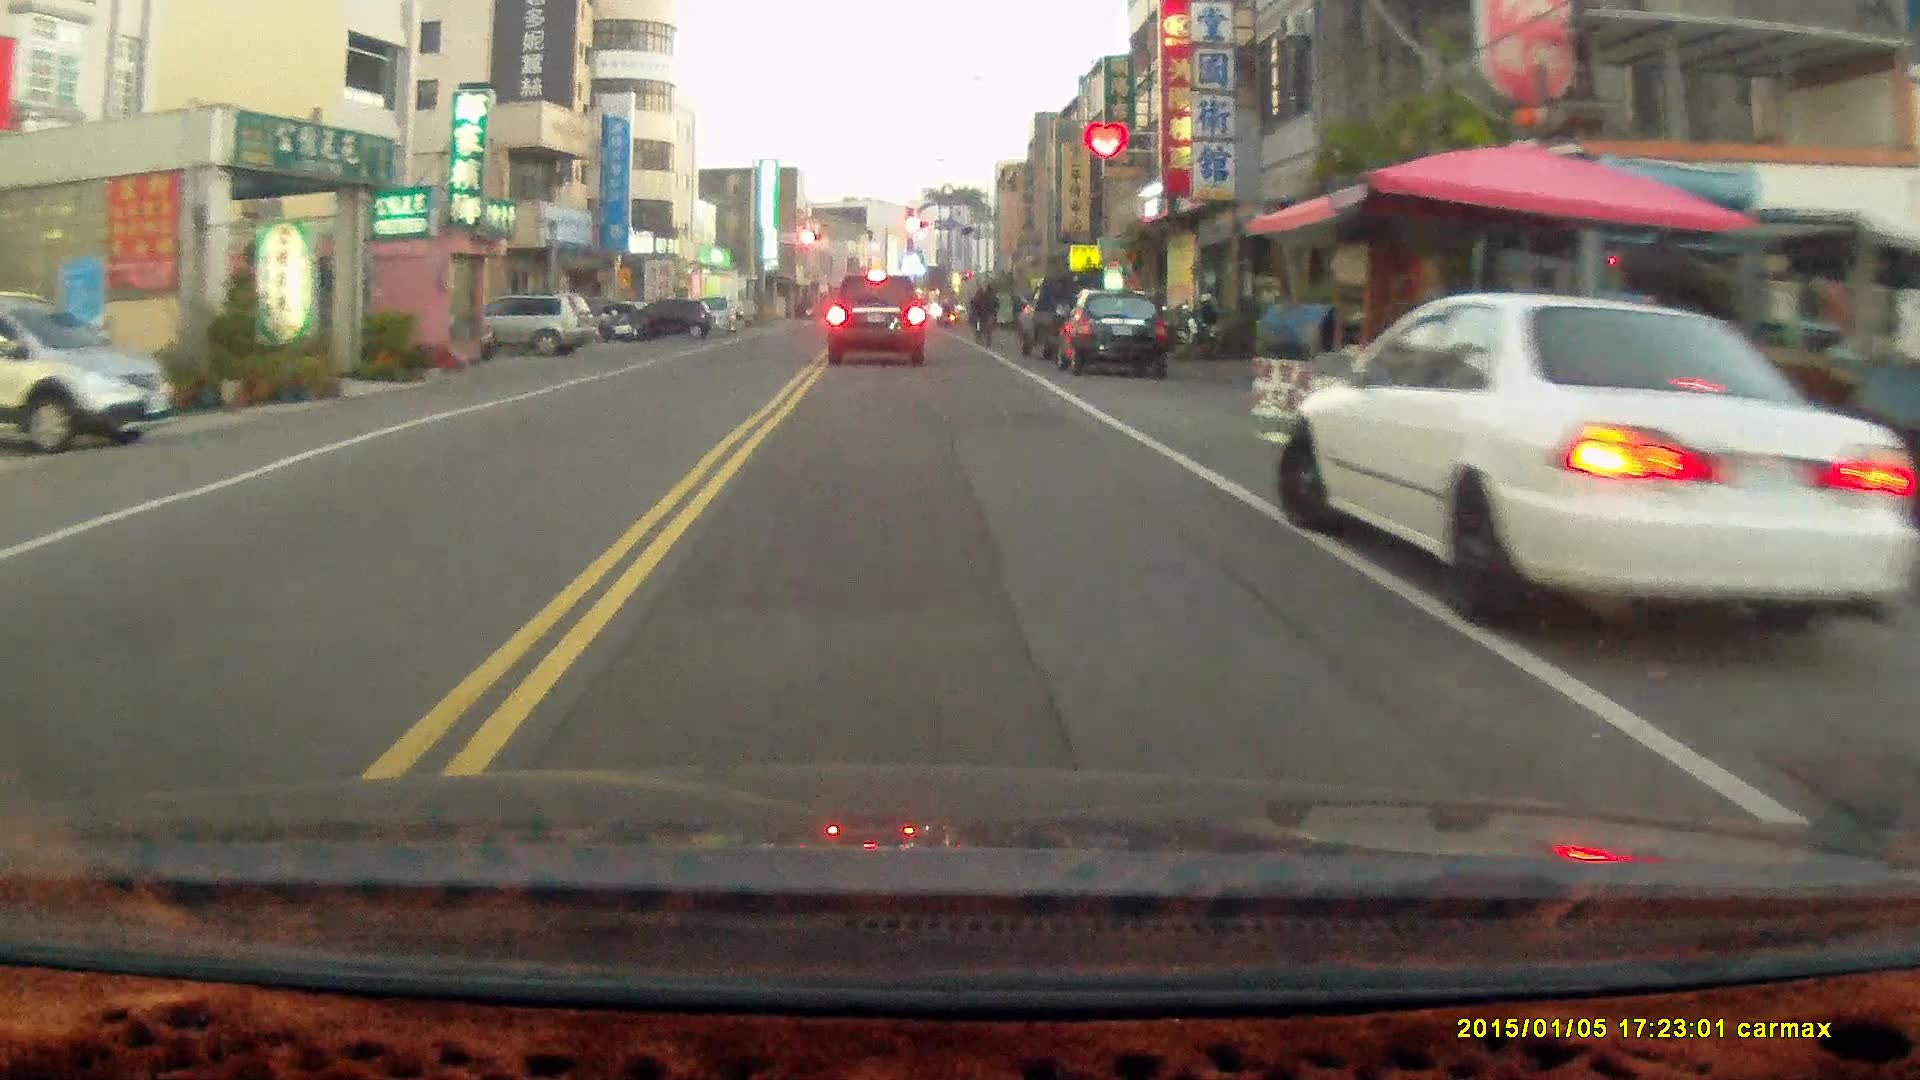rider: (972, 278, 1001, 346)
vehicle: (1278, 290, 1886, 630), (1, 292, 178, 451), (1057, 293, 1178, 384), (826, 275, 933, 370), (453, 291, 597, 354), (616, 296, 714, 342)
